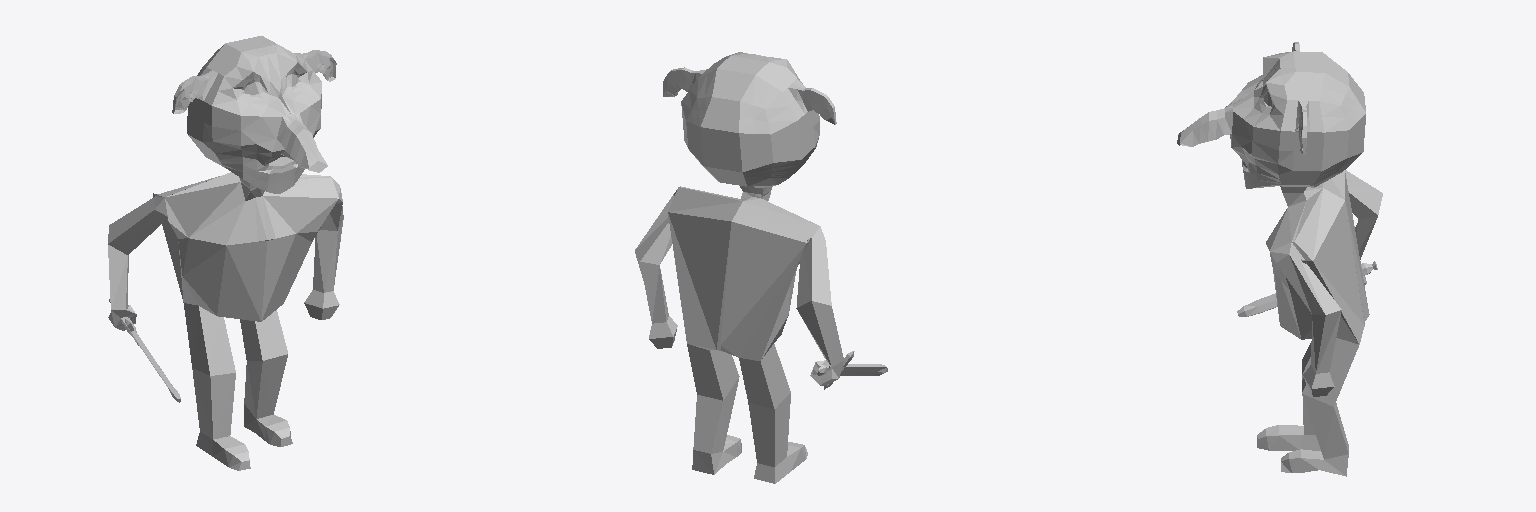
Rendered from andrzejAttack_000077.obj.
3 renders of one model, left to right at view 1: azimuth 30°, elevation 25°; view 2: azimuth 150°, elevation 25°; view 3: azimuth 270°, elevation 25°, orthographic.
Parts seen in each view (by area): view 1: Cube; view 2: Cube; view 3: Cube.
Part boxes in pixels (bbox=[...]): Cube: bbox=[108, 36, 343, 470]; Cube: bbox=[635, 52, 887, 483]; Cube: bbox=[1177, 42, 1382, 476].
Size of the model in its own units: 5.33 by 9.23 by 4.3.